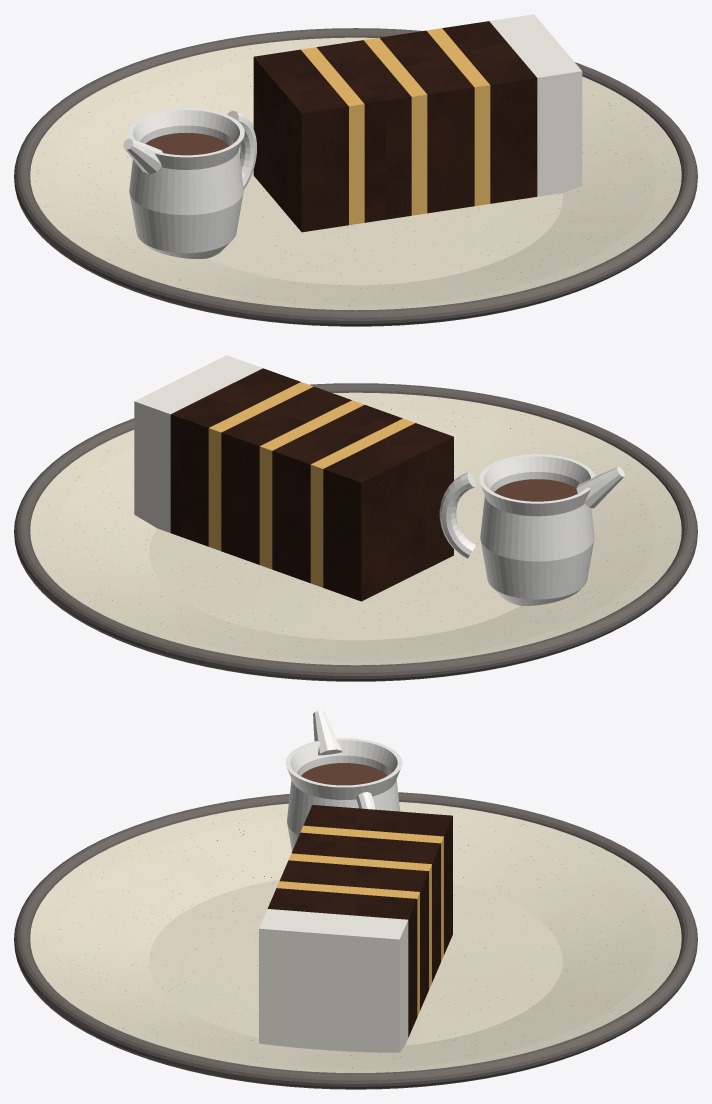
Rendered from london_viral_cake.glb.
The picture shows the model from 3 angles, top to bottom: view 1: azimuth 30°, elevation 25°; view 2: azimuth 150°, elevation 25°; view 3: azimuth 270°, elevation 25°; orthographic projection.
Parts seen in each view (by area): view 1: london_viral_cake__plate_1, london_viral_cake__sponge_3, london_viral_cake__plate_rim_2, london_viral_cake__jug_7, london_viral_cake__caramel_4, london_viral_cake__cream_5, london_viral_cake__jug_sauce_8; view 2: london_viral_cake__plate_1, london_viral_cake__sponge_3, london_viral_cake__plate_rim_2, london_viral_cake__jug_7, london_viral_cake__caramel_4, london_viral_cake__cream_5, london_viral_cake__jug_sauce_8; view 3: london_viral_cake__plate_1, london_viral_cake__plate_rim_2, london_viral_cake__cream_5, london_viral_cake__sponge_3, london_viral_cake__jug_7, london_viral_cake__caramel_4, london_viral_cake__jug_sauce_8.
Boxes of the visible parts, <box> form: london_viral_cake__plate_1: <box>30,37,681,310</box>; london_viral_cake__sponge_3: <box>253,21,537,232</box>; london_viral_cake__plate_rim_2: <box>14,28,697,326</box>; london_viral_cake__jug_7: <box>123,108,256,258</box>; london_viral_cake__caramel_4: <box>301,28,490,225</box>; london_viral_cake__cream_5: <box>489,14,582,196</box>; london_viral_cake__jug_sauce_8: <box>145,133,229,155</box>; london_viral_cake__plate_1: <box>30,392,681,665</box>; london_viral_cake__sponge_3: <box>170,368,453,601</box>; london_viral_cake__plate_rim_2: <box>14,383,697,681</box>; london_viral_cake__jug_7: <box>439,454,624,605</box>; london_viral_cake__caramel_4: <box>208,382,414,587</box>; london_viral_cake__cream_5: <box>134,355,262,532</box>; london_viral_cake__jug_sauce_8: <box>494,479,577,501</box>; london_viral_cake__plate_1: <box>30,802,681,1072</box>; london_viral_cake__plate_rim_2: <box>14,792,697,1089</box>; london_viral_cake__cream_5: <box>259,909,408,1052</box>; london_viral_cake__sponge_3: <box>267,805,452,1037</box>; london_viral_cake__jug_7: <box>285,710,402,851</box>; london_viral_cake__caramel_4: <box>276,825,443,1016</box>; london_viral_cake__jug_sauce_8: <box>301,763,386,785</box>.
Size of the model in its own units: 0.287 by 0.0688 by 0.287.
Materials: 8 (2 with a texture image).
